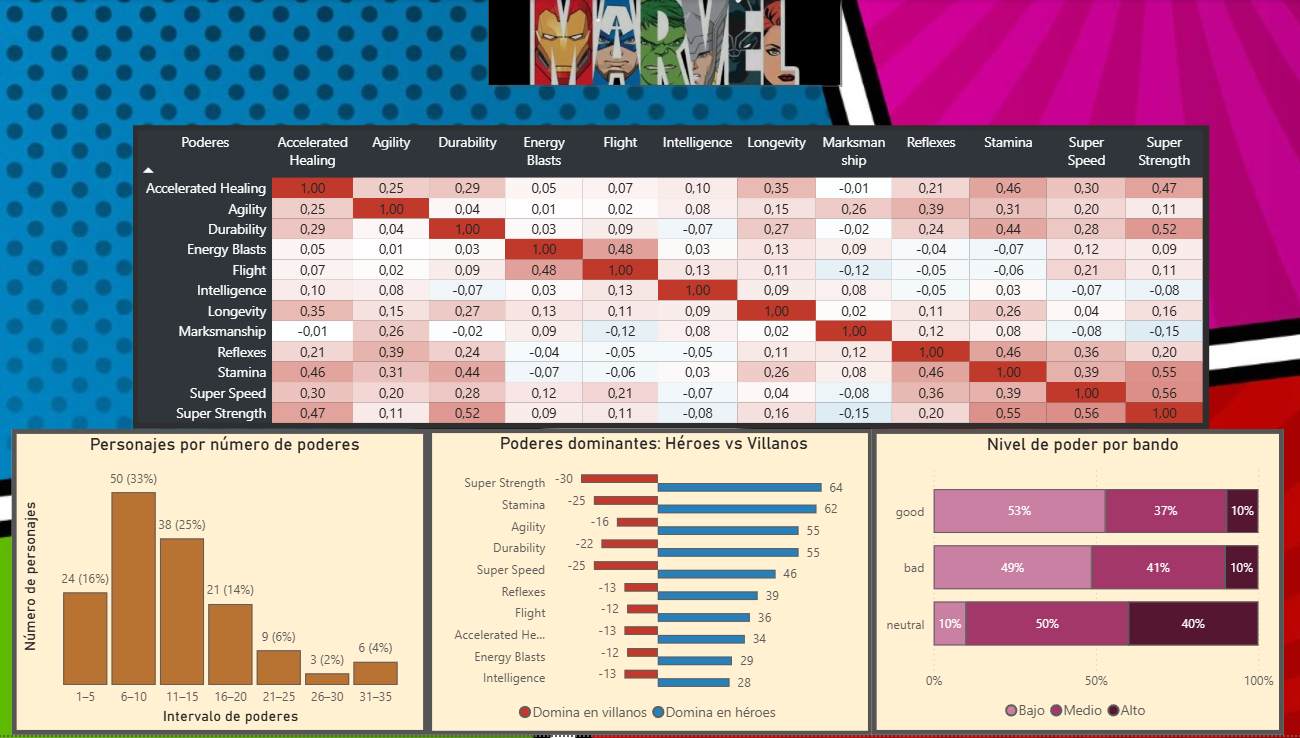

The page's visual inventory and layout, read from the dashboard file:
{"tool":"powerbi","page":{"name":"Comparativa de poderes","canvas":[1280,720],"ordinal":3},"visuals":[{"type":"image","box":[479.4,0,346.1,85.6],"z":0},{"type":"clusteredBarChart","title":"Poderes dominantes: Héroes vs Villanos","fields":{"Category":["marvel_powers_long.Power"],"Y":["marvel_buscador.Villanos negativo","marvel_powers_long.Heroes por poder"]},"box":[420.7,420.7,434.1,299.6],"z":1000},{"type":"pivotTable","fields":{"Rows":["matriz_correlaciones.Poder_Fila"],"Columns":["matriz_correlaciones.Poder_Columna"],"Values":["Sum(matriz_correlaciones.Correlacion)"]},"box":[132.1,123.5,1052.9,297.1],"z":2000},{"type":"clusteredColumnChart","title":"Personajes  por número de poderes","fields":{"Category":["marvel_heroes_clean.Intervalo de poderes"],"Y":["Count(marvel_heroes_clean.name)"]},"box":[13.5,420.7,407.2,299.6],"z":3000},{"type":"hundredPercentStackedBarChart","title":"Nivel de poder por bando","fields":{"Category":["marvel_heroes_clean.Alignment"],"Y":["Count(marvel_heroes_clean.name)"],"Series":["marvel_heroes_clean.Nivel de poder"]},"box":[854.8,420.7,403.5,299.6],"z":4000}]}

Visuals, with their boxes in screenshot pixels (x1, y1, x2, y2), scaled from the page's 1280x720 canvas onto the 1300x738 screenshot:
image: [x1=487, y1=0, x2=838, y2=88]
"Poderes dominantes: Héroes vs Villanos" clusteredBarChart: [x1=427, y1=431, x2=868, y2=737]
pivotTable - matriz_correlaciones.Poder_Fila x matriz_correlaciones.Poder_Columna: [x1=134, y1=127, x2=1204, y2=431]
"Personajes  por número de poderes" clusteredColumnChart: [x1=14, y1=431, x2=427, y2=737]
"Nivel de poder por bando" hundredPercentStackedBarChart: [x1=868, y1=431, x2=1278, y2=737]
